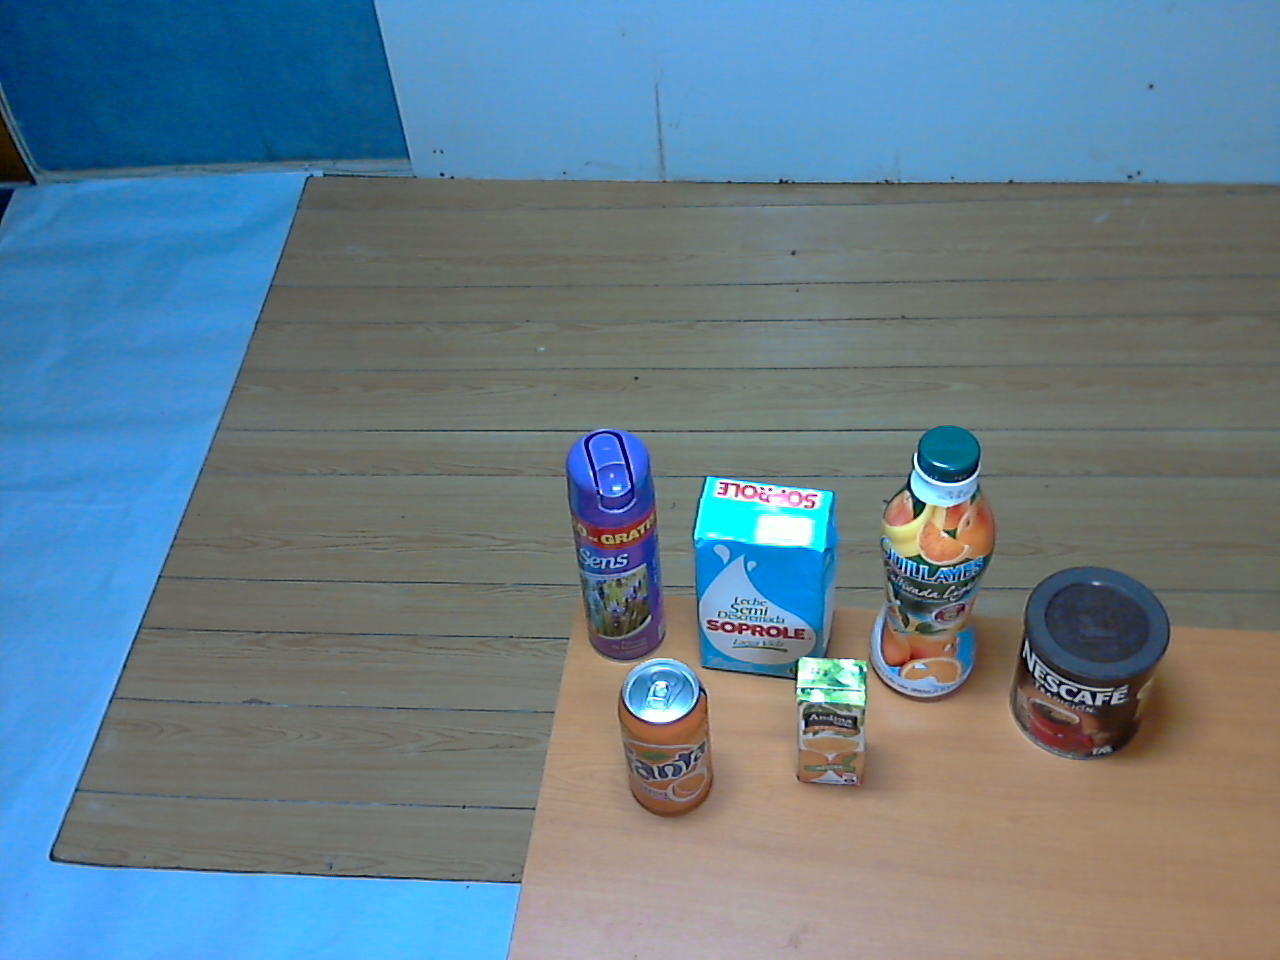aerosol: (557, 425, 677, 675)
cafe: (1002, 564, 1173, 770)
jugoind: (783, 647, 874, 798)
lata: (616, 659, 721, 819)
leche: (683, 475, 842, 695)
yogurt: (860, 418, 1010, 712)
